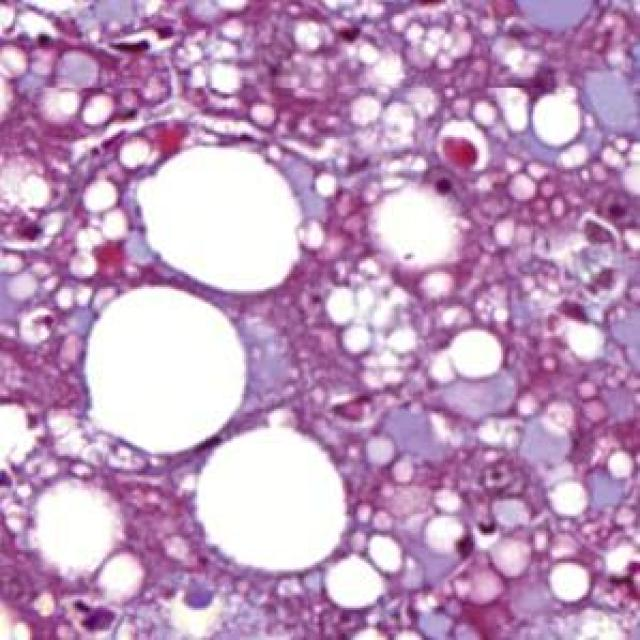steatosis: (199, 424, 353, 574)
